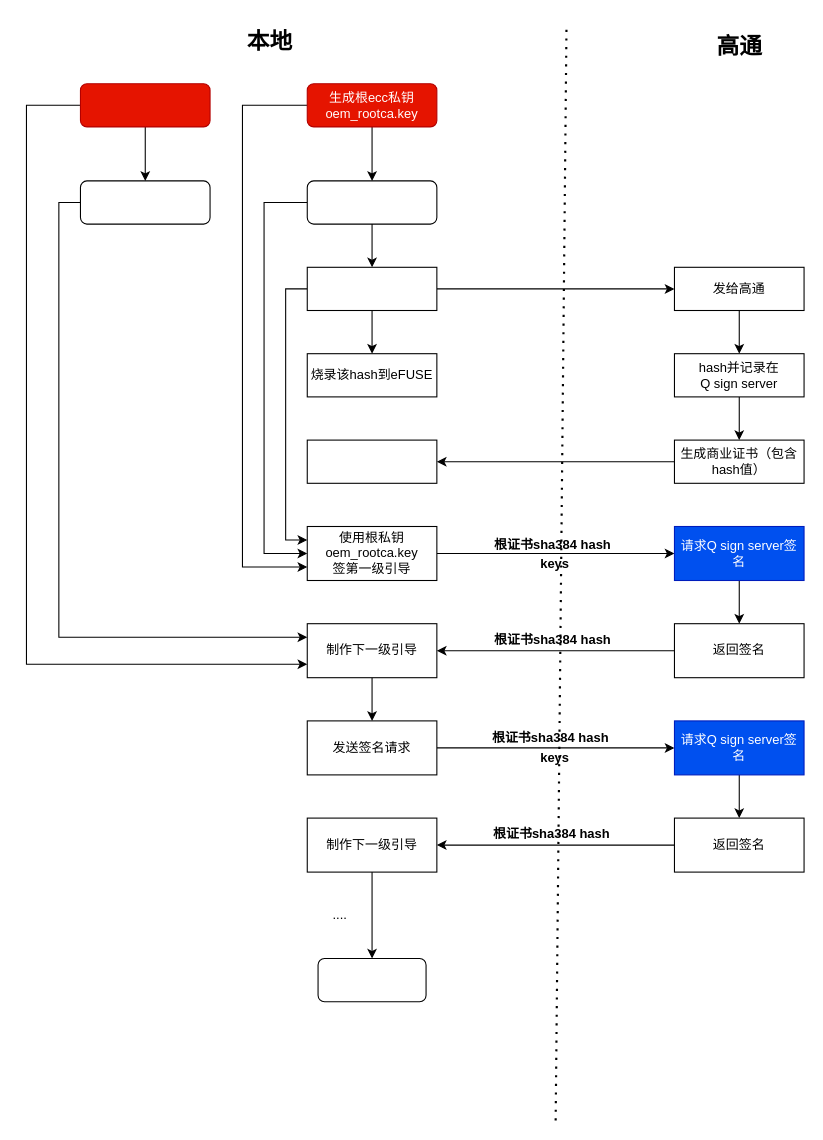
Image size: 823x1140. Some labels were removed from this diagram. The centre of each missing label's shape, as x and y in pixels:
收到商业证书 制作带有商业证书的rootfs: point 371,461
生成boot image: point 371,979
生成二级CA私钥 oem_attestationca.cer: point 144,202
生成二级ecc私钥 oem_attestationca.key: point 144,105
生成根CA证书 oem_rootca.cer: point 371,202
计算sha384 hash: point 371,288
